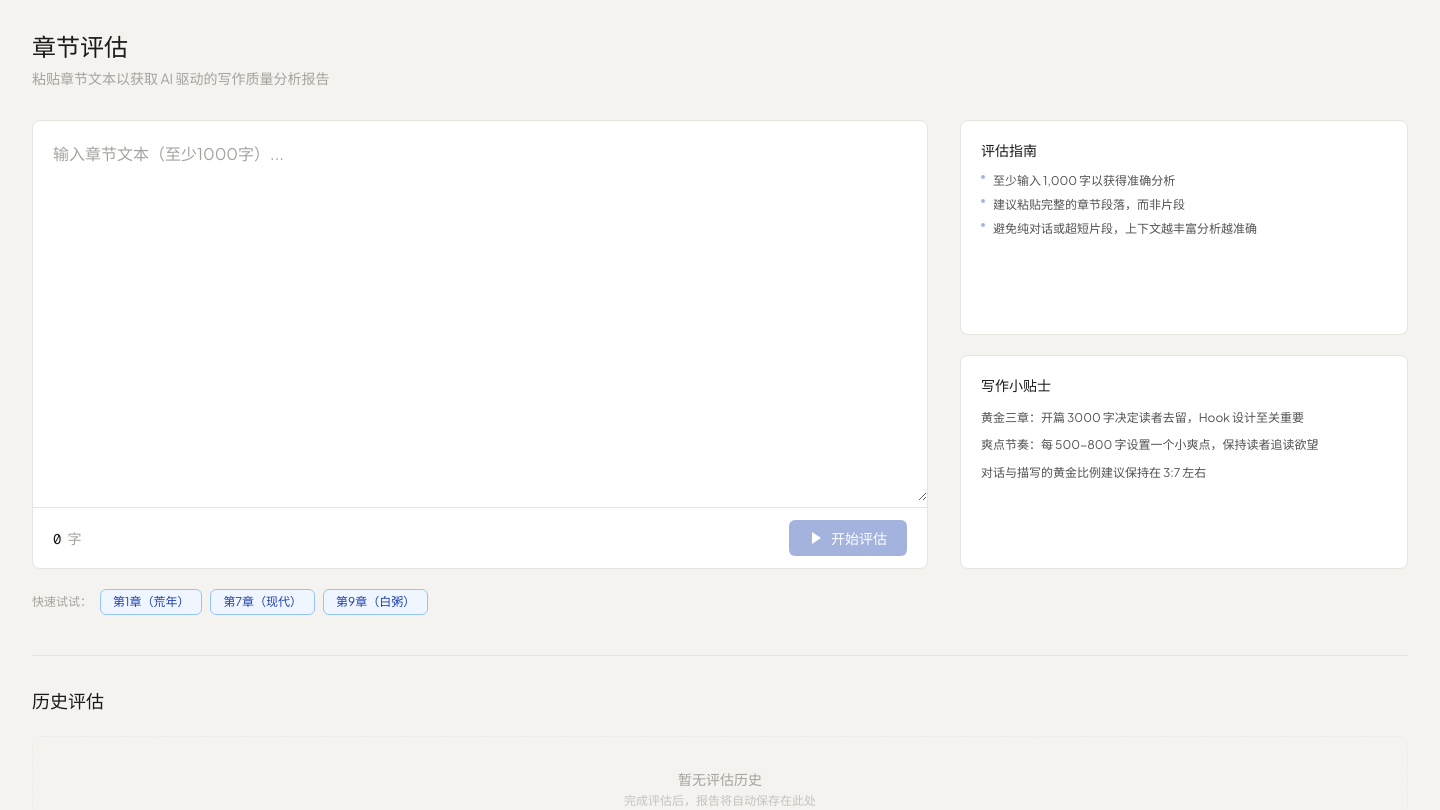
Test: EvaluatePage › should fill textarea when sample button is clicked
Expected: the text box with placeholder "输入章节文本（至少1000字）..." is empty, [33, 121, 927, 501]
Click the button "第1章（荒年）". click: (151,602)
box: [100, 589, 202, 615]
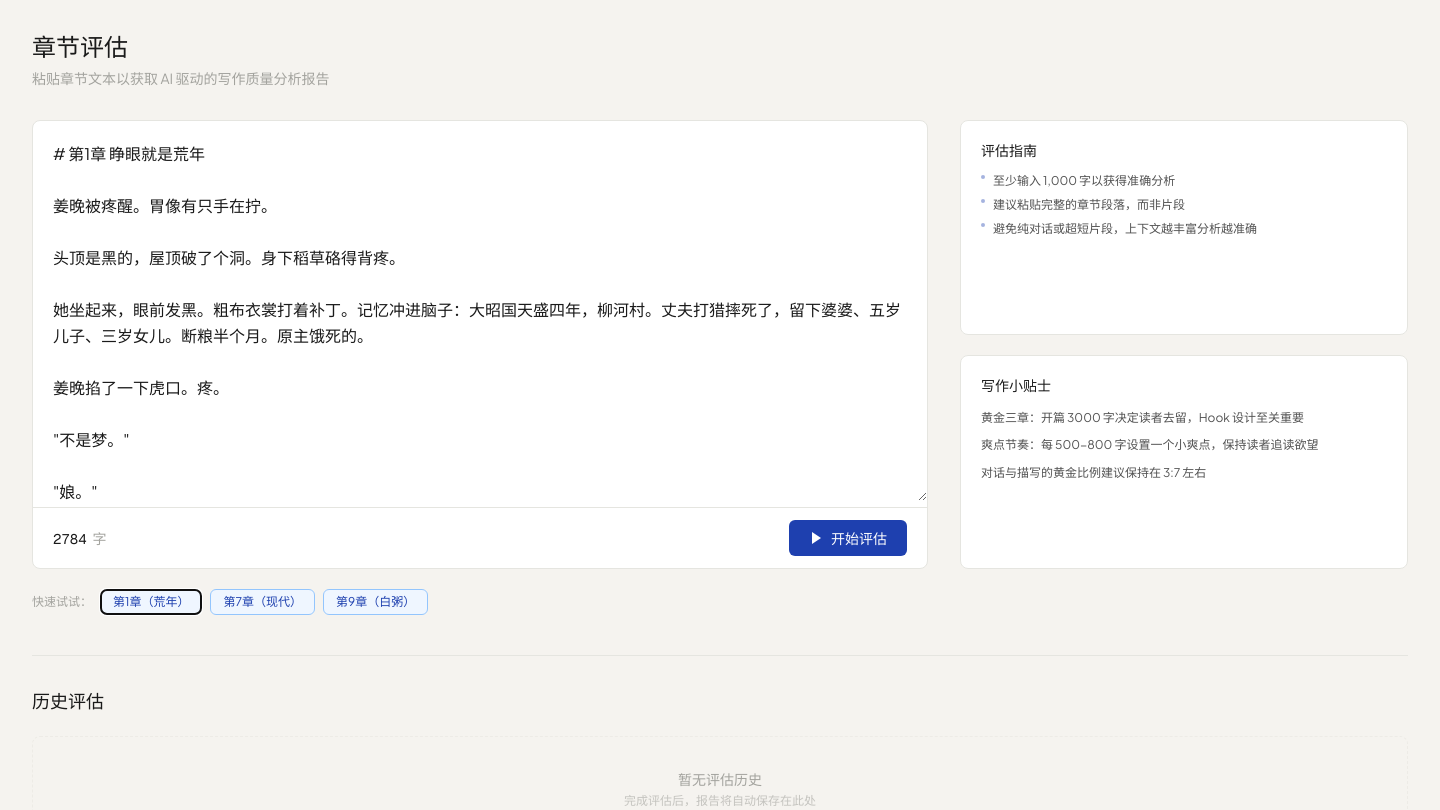
Result: the text box with placeholder "输入章节文本（至少1000字）..." is not empty at [33, 121, 927, 501]
